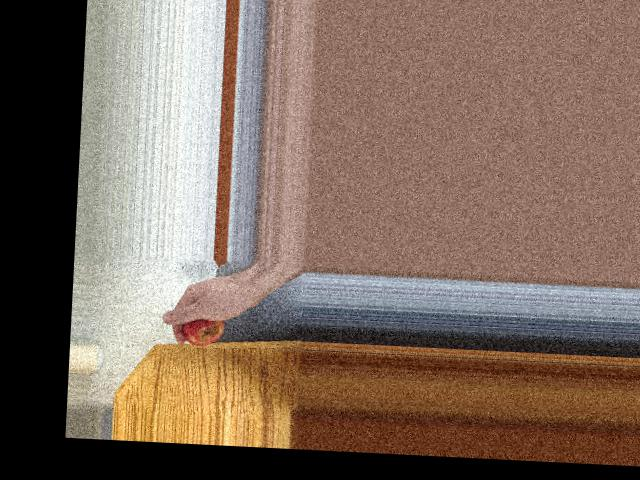apple: (179, 302, 228, 349)
